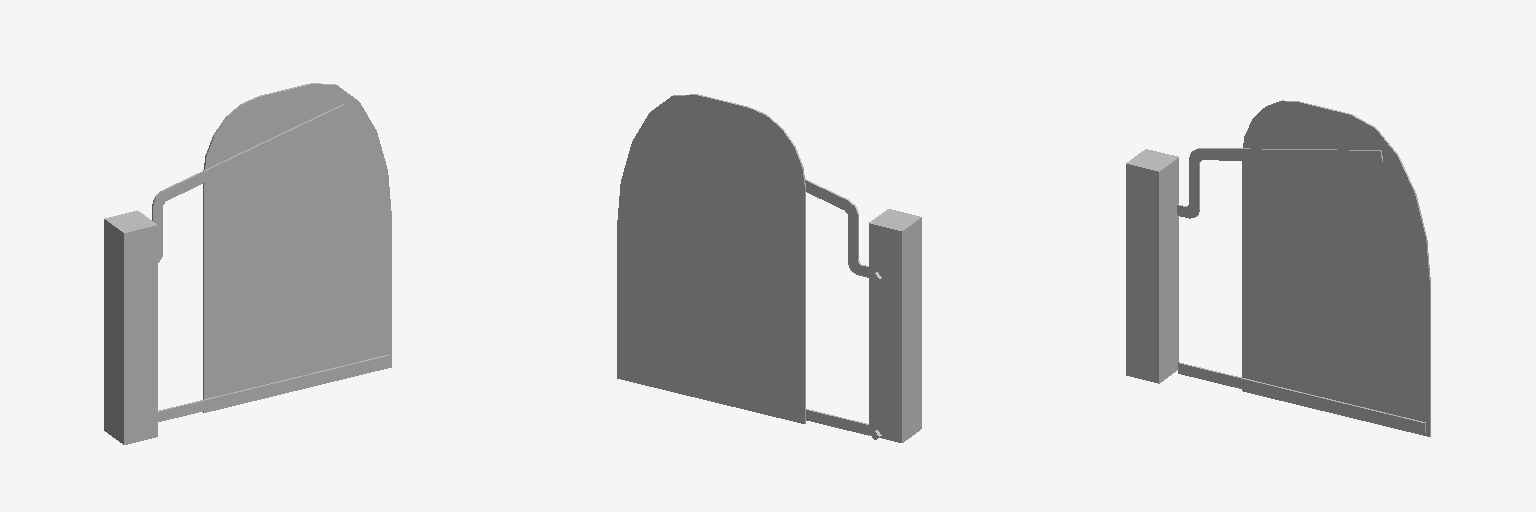
File: lms_post_wooden_backplate_mid.obj
3 views of the same model, side by side, from view 1: azimuth 30°, elevation 25°; view 2: azimuth 150°, elevation 25°; view 3: azimuth 330°, elevation 25° (orthographic).
Parts seen in each view (by area): view 1: backplate_mid_post_Cube.028; view 2: backplate_mid_post_Cube.028; view 3: backplate_mid_post_Cube.028.
Boxes of the visible parts, <box> form: backplate_mid_post_Cube.028: <box>104,83,391,444</box>; backplate_mid_post_Cube.028: <box>617,94,921,442</box>; backplate_mid_post_Cube.028: <box>1126,100,1430,436</box>.
Bounding box in the file's own units: 1.41 × 1.43 × 0.1917.